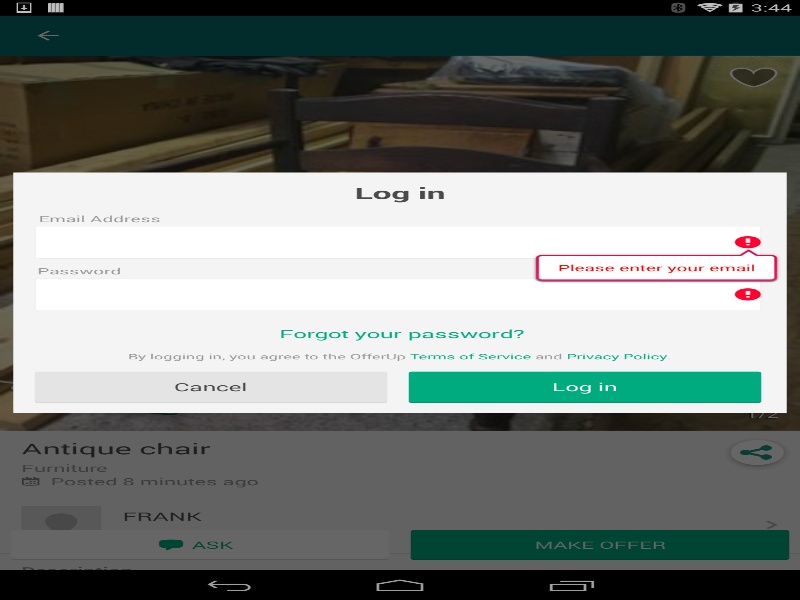Input: (34, 225, 761, 258), (34, 278, 761, 310)
